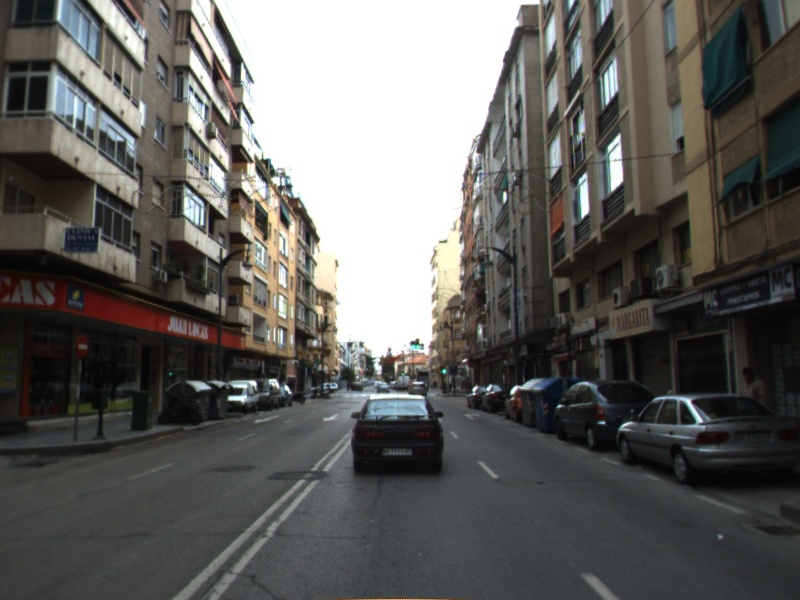RIGHT: (462, 411, 481, 421)
